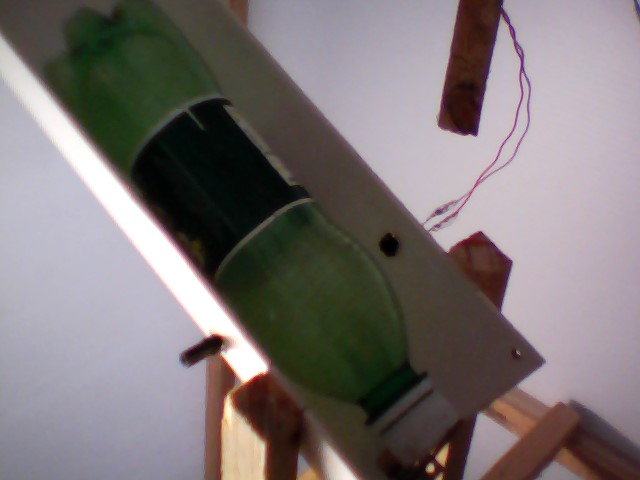plastico: (34, 1, 467, 479)
